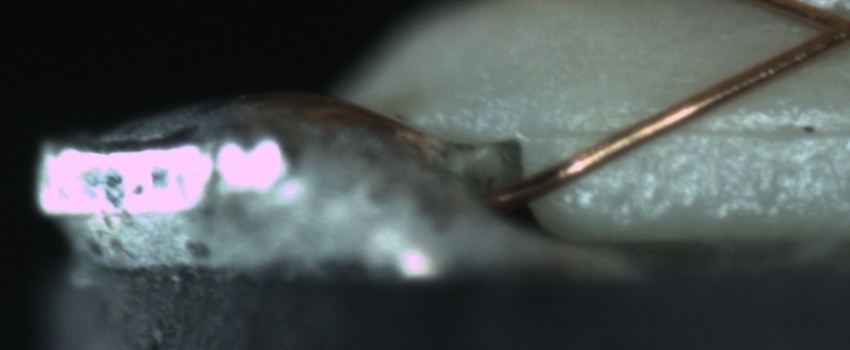CL: (800, 2, 850, 58)
DL: (553, 100, 849, 160)
